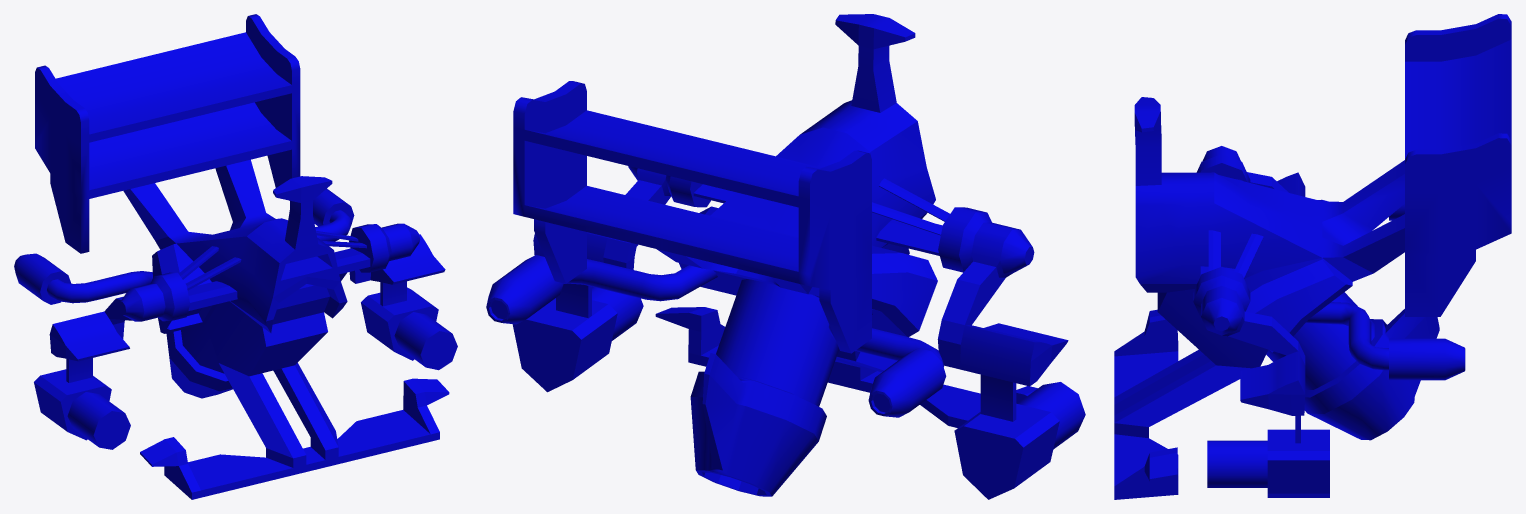
The model's file is robSpeed_body.fbx.
The picture shows the model from 3 angles, left to right: view 1: azimuth 30°, elevation 25°; view 2: azimuth 150°, elevation 25°; view 3: azimuth 270°, elevation 25°; orthographic projection. The views are drawn at different scales.
Parts seen in each view (by area): view 1: robSpeed_body; view 2: robSpeed_body; view 3: robSpeed_body.
Part boxes in pixels (x1,y1,x2,y2): robSpeed_body: (14, 14, 457, 499); robSpeed_body: (486, 14, 1085, 499); robSpeed_body: (1114, 14, 1511, 499).
Size of the model in its own units: 97.09 by 76.08 by 76.19.
